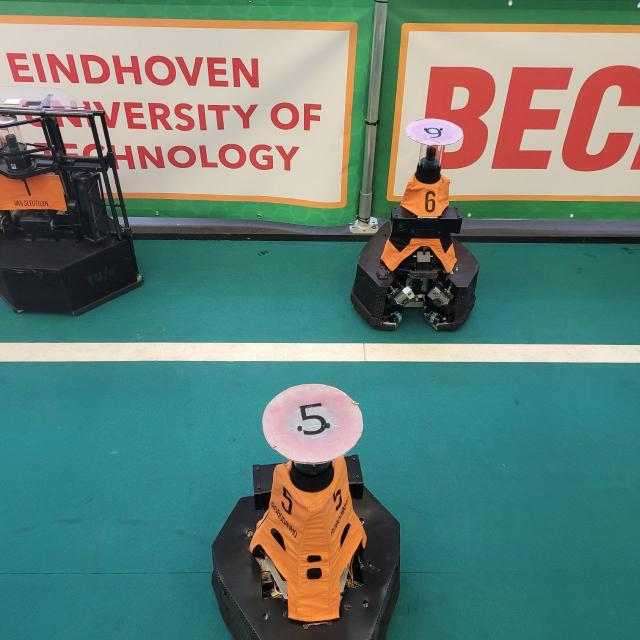robot: (167, 366, 429, 640), (3, 78, 169, 326), (342, 121, 503, 339)
